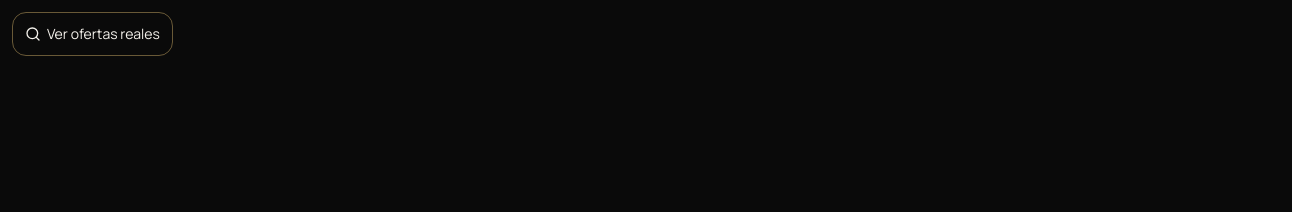
Scenario: ofertas de hotel en MXN › donde la tarjeta es en USD (Hoteles) sigue en USD
Click the button with test id "hotel-ofertas-ver" at (92, 34), box [12,12,173,56]
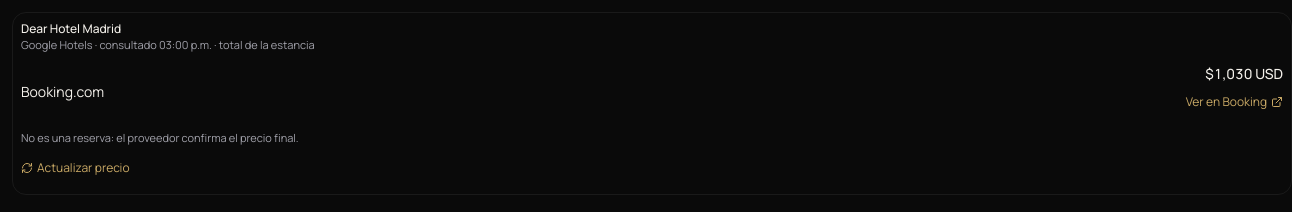
expect the text with test id "hotel-oferta-precio" reads "$1,030 USD": met, box [1205,64,1283,82]
